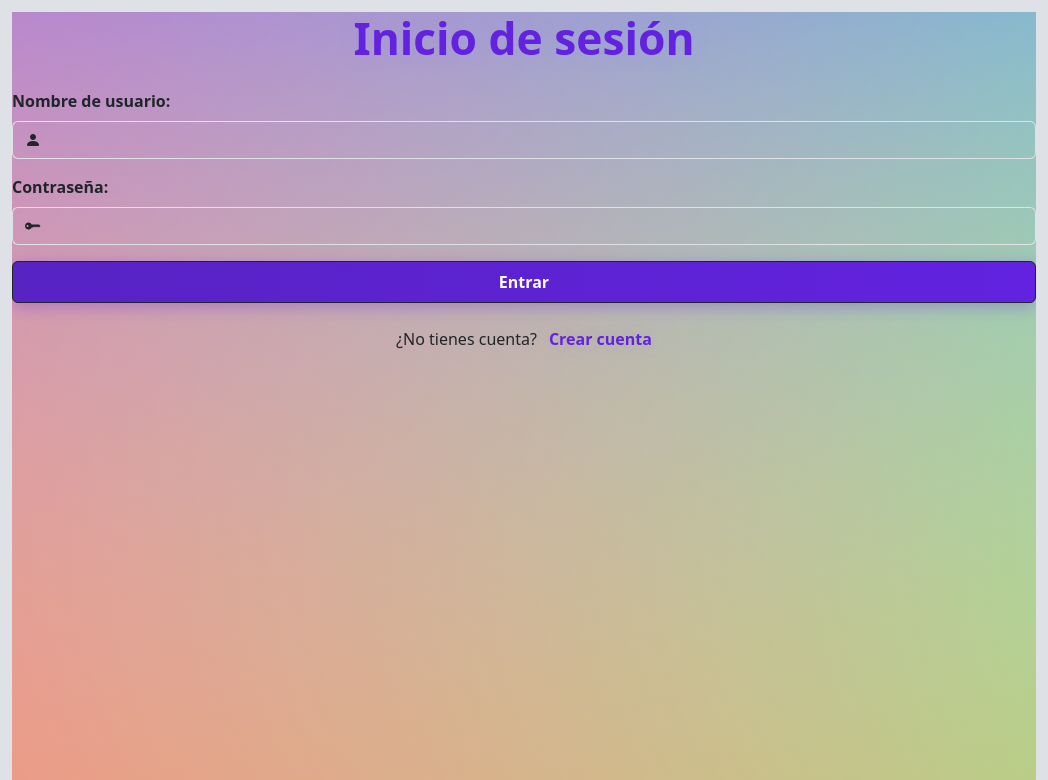
Test: LoginForm › try login without password
Type "test-username" into the field labelled "Nombre de usuario:" at point(544, 140), box [52,121,1036,159]
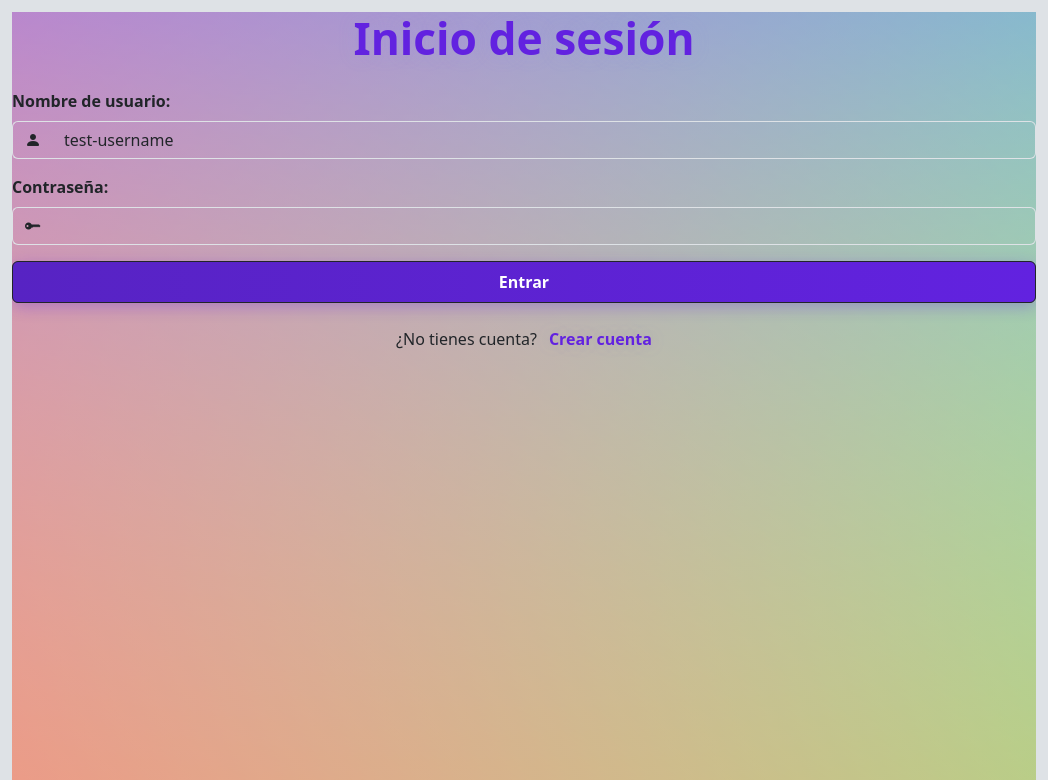
Click the button "Entrar" at point(524, 282), box [12,261,1036,303]
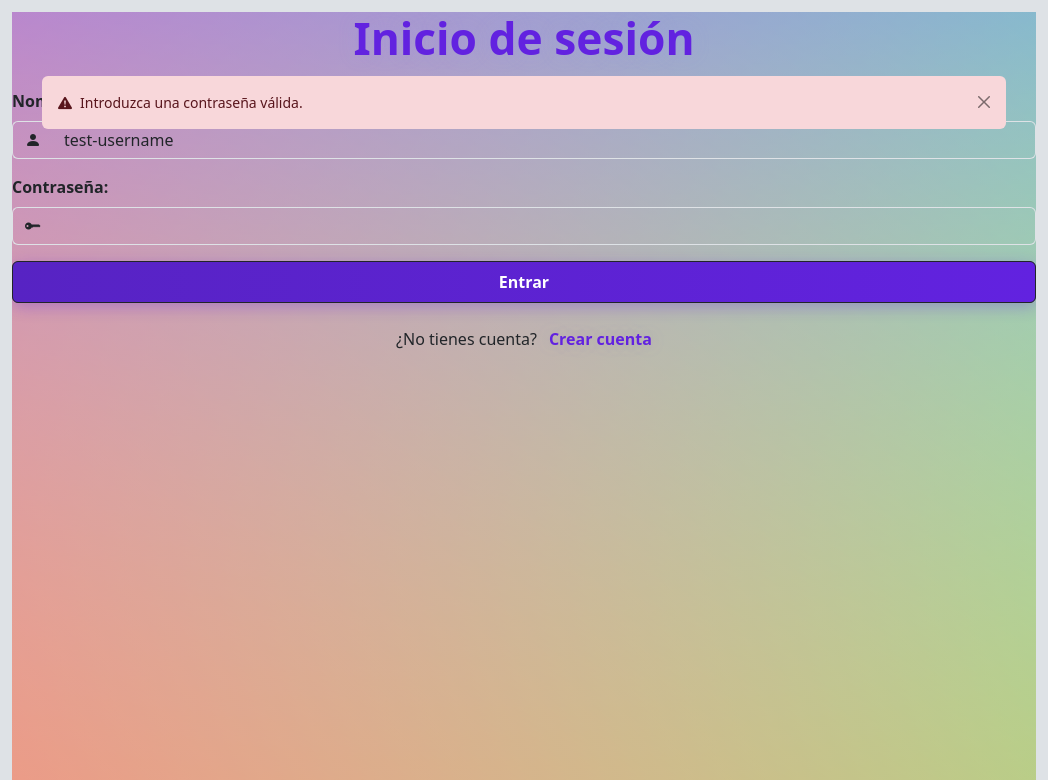
Result: the text "Introduzca una contraseña válida." is shown at [80,93,303,112]
